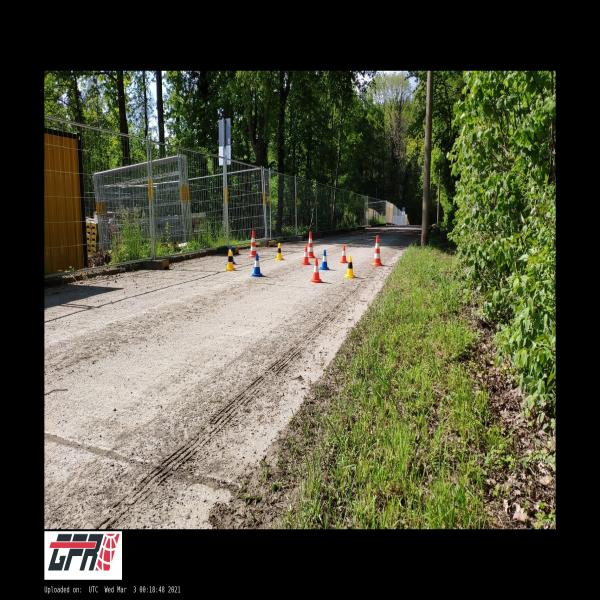blue_cone: (250, 254, 264, 276), (319, 250, 330, 270), (226, 246, 236, 264)
large_orange_cone: (370, 235, 382, 266), (308, 231, 315, 258), (249, 231, 256, 257)
orange_cone: (309, 259, 323, 283), (302, 247, 310, 265), (340, 246, 348, 263)
yellow_cone: (344, 256, 355, 278), (225, 250, 236, 271), (276, 243, 284, 260)
